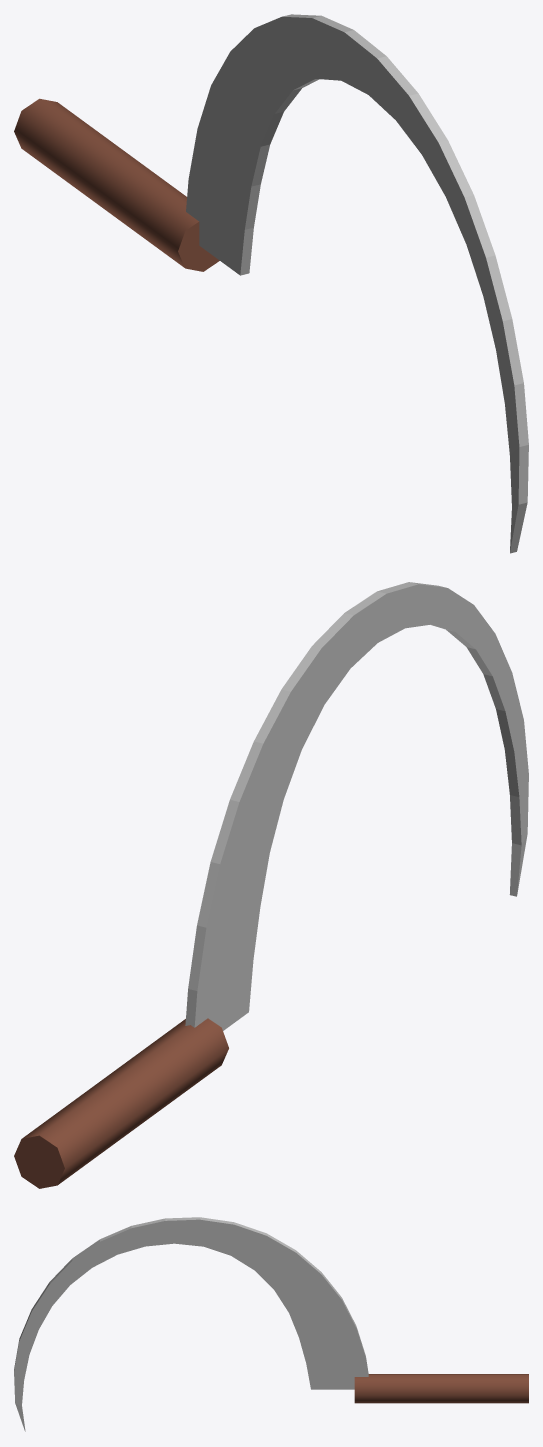
Rendered from Sickle.fbx.
The picture shows the model from 3 angles, top to bottom: view 1: azimuth 30°, elevation 25°; view 2: azimuth 150°, elevation 25°; view 3: azimuth 270°, elevation 25°; orthographic projection. The views are drawn at different scales.
Parts seen in each view (by area): view 1: 柱体; view 2: 柱体; view 3: 柱体.
Boxes of the visible parts, x1,y1,x2,y2 form: 柱体: (14,14,528,553); 柱体: (14,582,528,1188); 柱体: (14,1217,528,1431).
Size of the model in its own units: 6.21 by 46.78 by 102.
